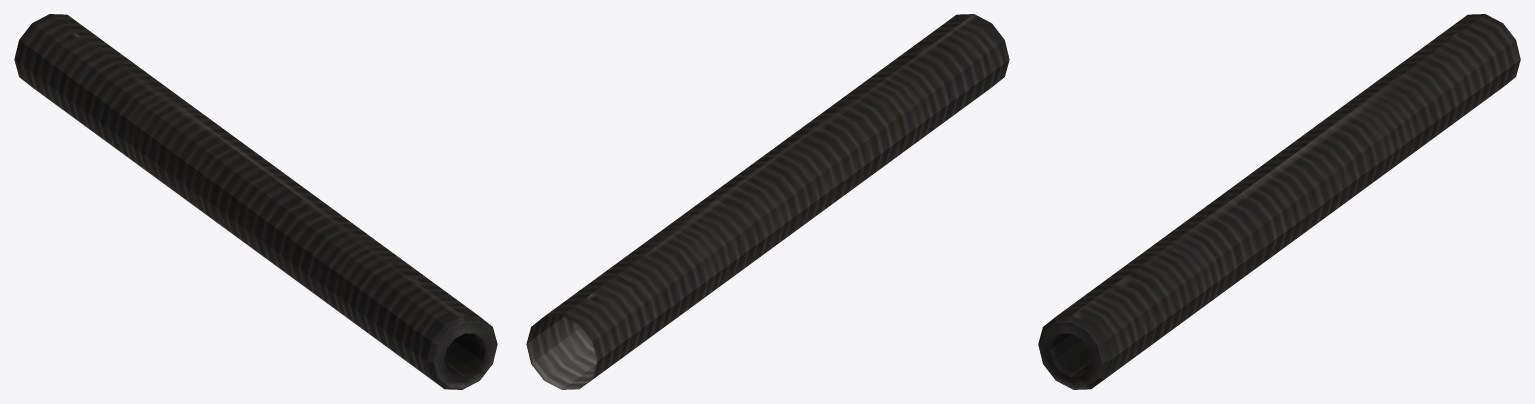
3 renders of one model, left to right at view 1: azimuth 30°, elevation 25°; view 2: azimuth 150°, elevation 25°; view 3: azimuth 330°, elevation 25°, orthographic.
Visible parts, largest first — view 1: TW_574d967124597745970e7c94_PZ_Import; view 2: TW_574d967124597745970e7c94_PZ_Import; view 3: TW_574d967124597745970e7c94_PZ_Import.
Part boxes in pixels (<box>): TW_574d967124597745970e7c94_PZ_Import: <box>14,14,497,389</box>; TW_574d967124597745970e7c94_PZ_Import: <box>526,14,1009,389</box>; TW_574d967124597745970e7c94_PZ_Import: <box>1038,14,1520,389</box>.
Size of the model in its own units: 0.00733 by 0.0743 by 0.00733.
Materials: 1 (1 with a texture image).
